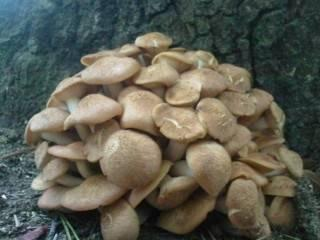Edible Mushroom: (23, 30, 306, 239)
